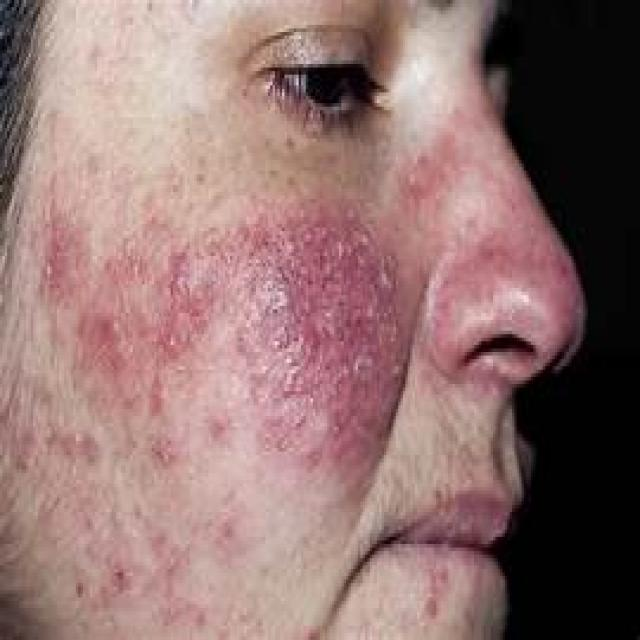Rosacea: (180, 236, 396, 460), (28, 207, 136, 393)
